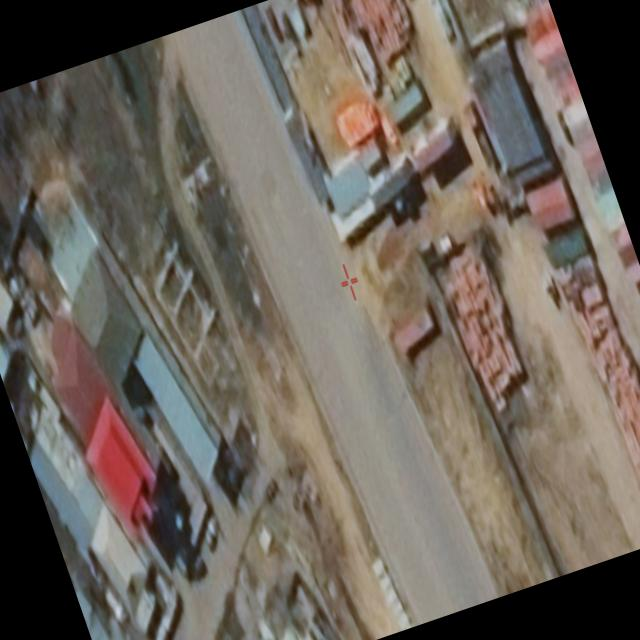damage: (557, 255, 640, 483), (429, 234, 524, 429), (350, 0, 418, 77)
old_road: (149, 35, 285, 521)
road: (161, 10, 512, 627)
